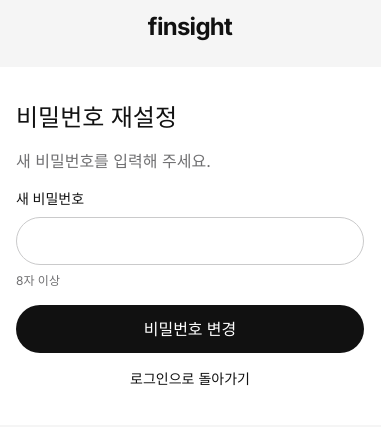
Test: 복구 세션에서는 새 비밀번호를 검증한다
This screenshot has width=381, height=427.
Type "short" into the password field labelled "새 비밀번호".
click(190, 241); type("short")  # box [16,217,364,265]
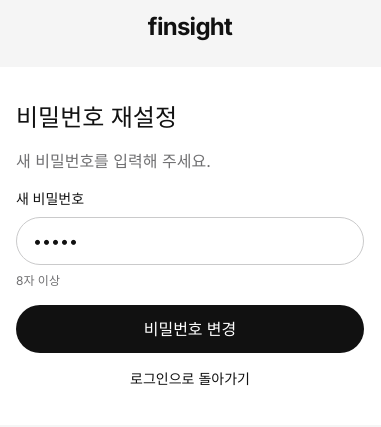
Click the button "비밀번호 변경".
click(190, 329)  # box [16,305,364,353]
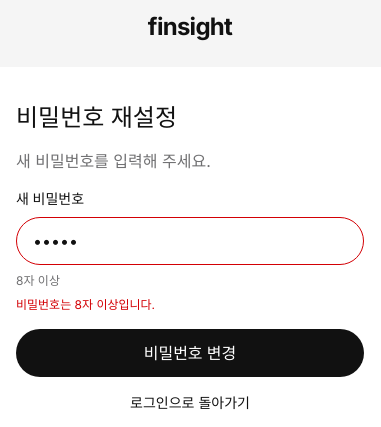
expect the text "비밀번호는 8자 이상입니다." is shown: met, box [16,297,155,312]
